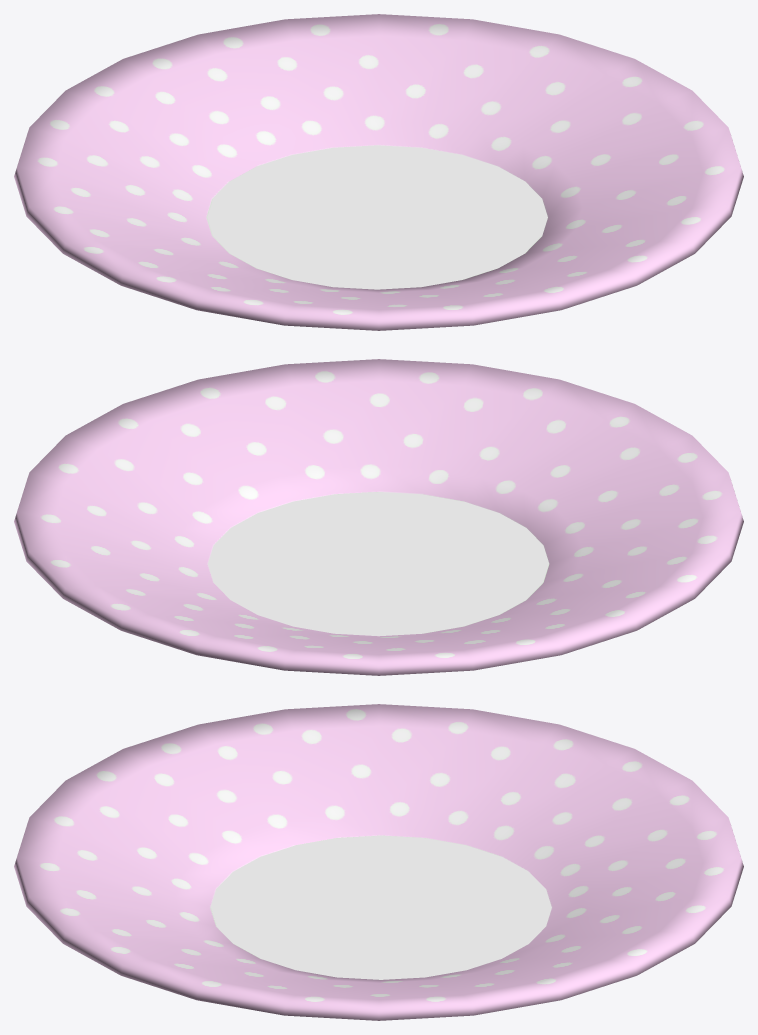
File: plate.fbx
The picture shows the model from 3 angles, top to bottom: view 1: azimuth 30°, elevation 25°; view 2: azimuth 150°, elevation 25°; view 3: azimuth 270°, elevation 25°; orthographic projection.
Visible parts, largest first — view 1: plate; view 2: plate; view 3: plate.
Boxes of the visible parts, x1,y1,x2,y2 form: plate: (14,14,743,330); plate: (14,359,743,675); plate: (14,704,743,1020).
Bounding box in the file's own units: 692 × 77.65 × 692.
